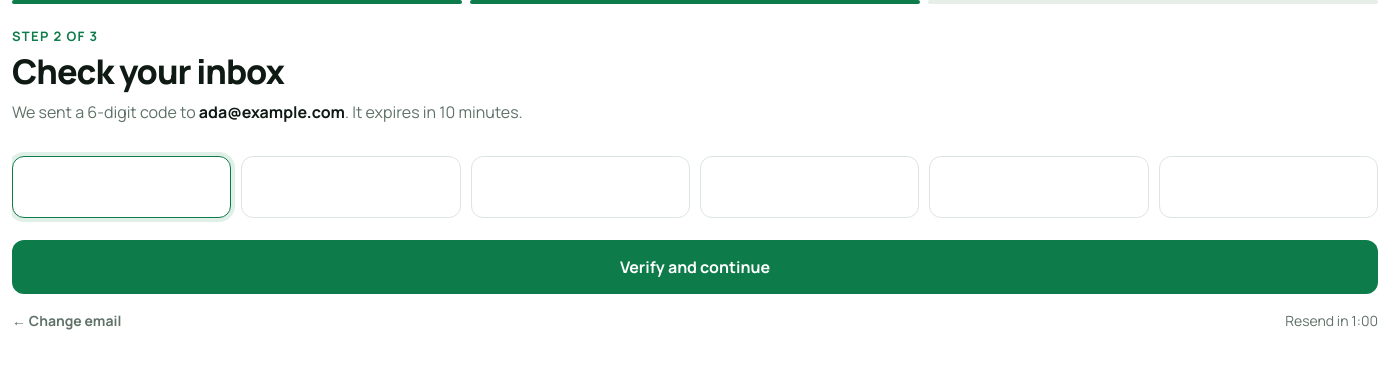
it: SignUpFlow › goes back to step 1 keeping the email
Step 1. Click the button "← Change email" → (67,321), box 12,314 -> 121,328
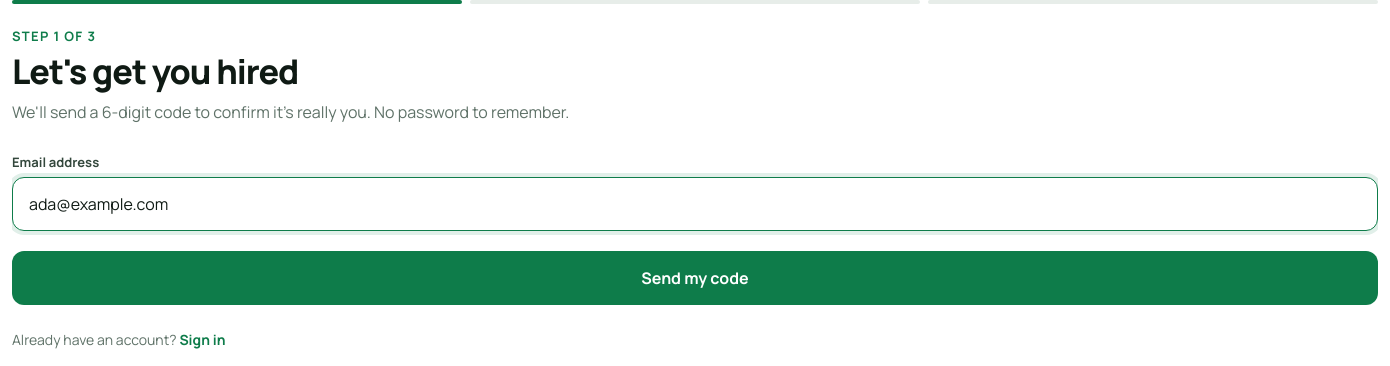
Check: the field labelled "Email address" holds "ada@example.com", box 12,177 -> 1378,231
